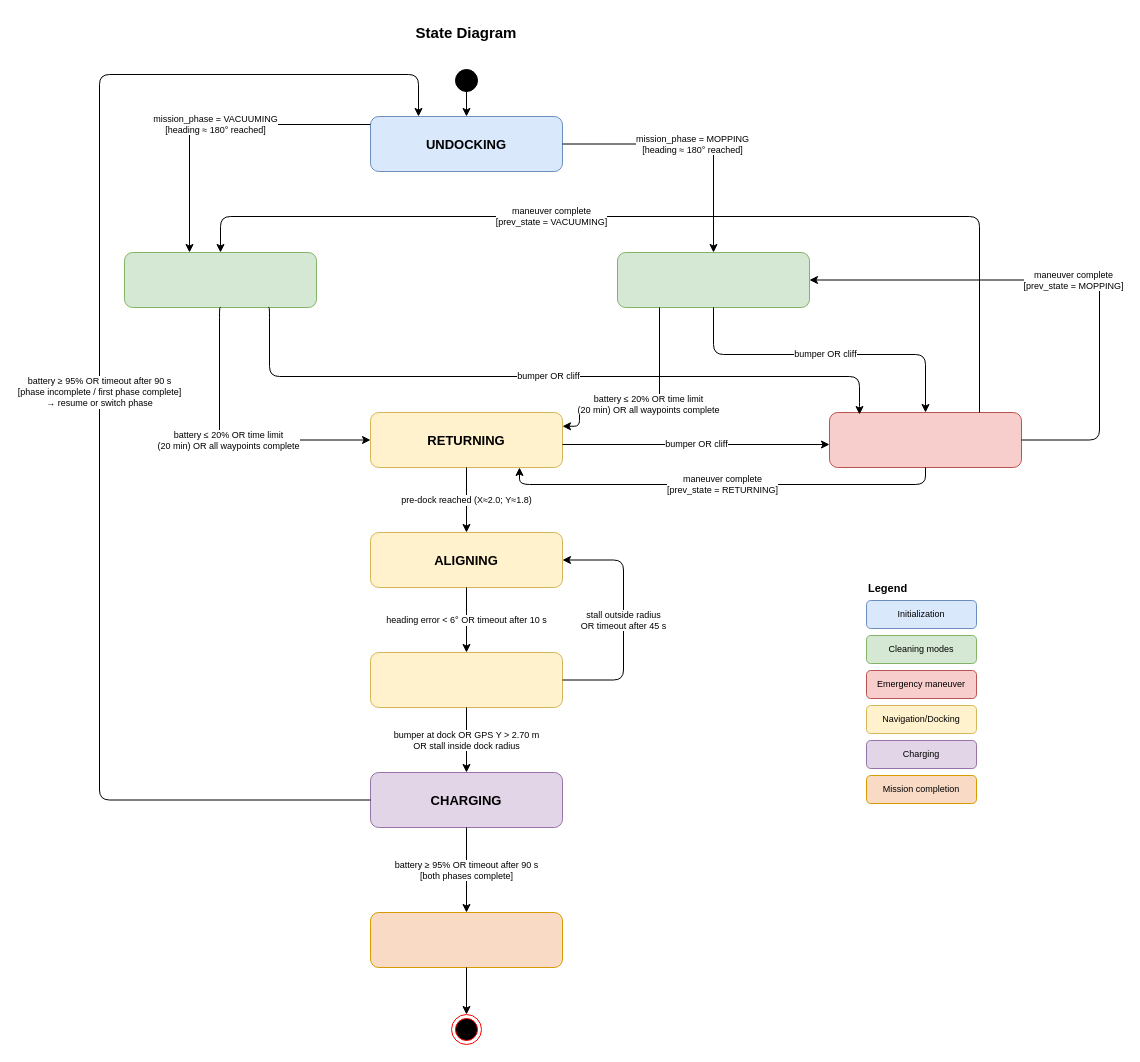
Some shapes in this 1140 by 1062 pixel diagram are drawn without their labels. The shapes that lost their labels are listed below. From the top down, each one's centre as x and y in pixels, then its label:
At pixel 220 280: "VACUUMING".
At pixel 713 280: "MOPPING".
At pixel 925 440: "ESCAPE".
At pixel 466 680: "DOCKING".
At pixel 466 940: "FINISHED".
